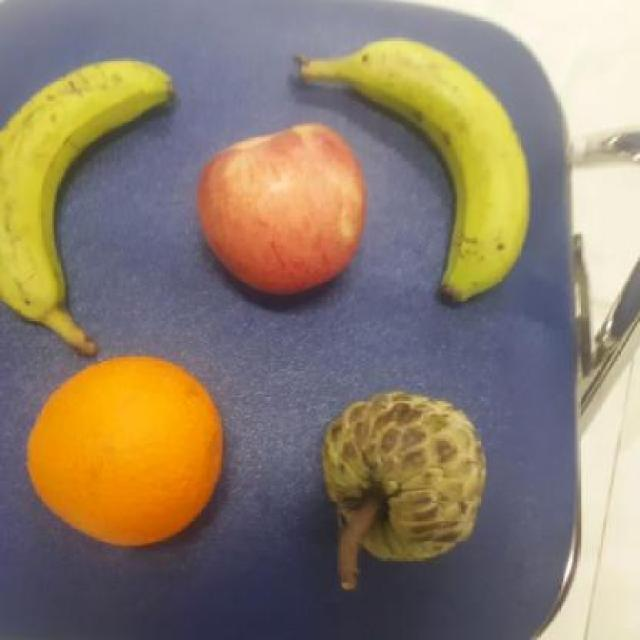apple: (196, 121, 364, 293)
banana: (293, 35, 529, 300), (0, 59, 174, 358)
oren: (26, 356, 223, 549)
sugar apple: (322, 390, 486, 559)
